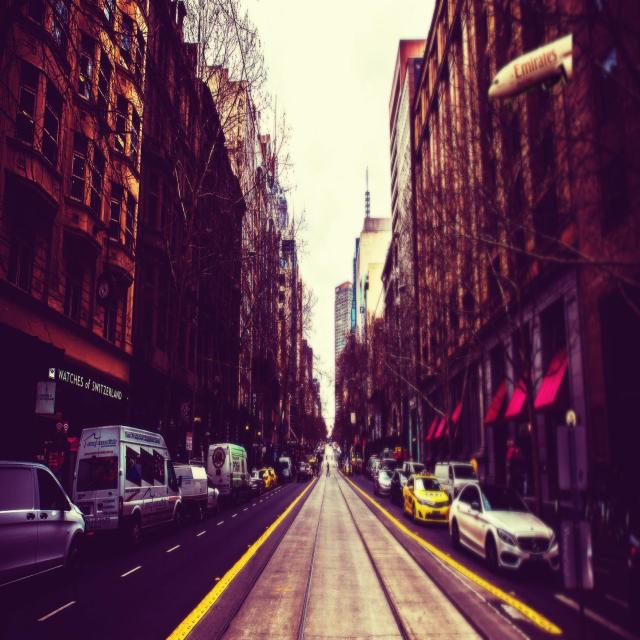airplane: (488, 30, 572, 97)
